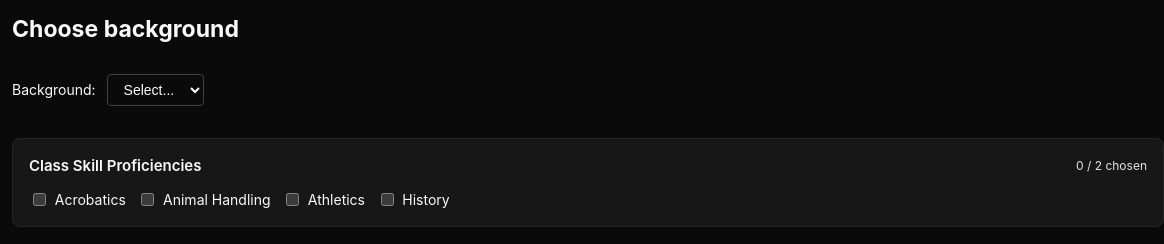
Test case: BackgroundStep › deselects a skill when clicked again
Click the checkbox labelled "Acrobatics": (40, 199) [33,193,46,206]
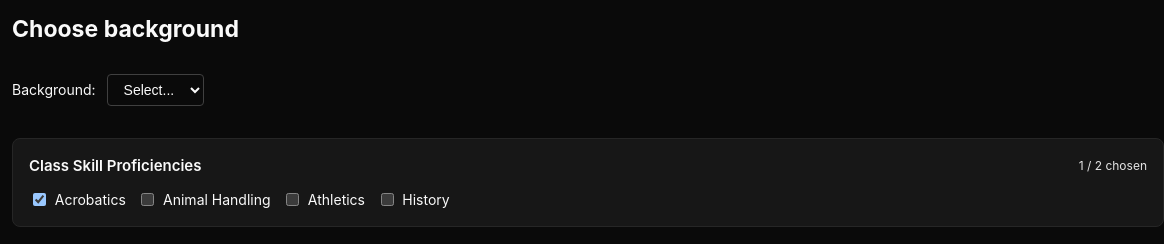
Click the checkbox labelled "Acrobatics": (40, 199) [33,193,46,206]
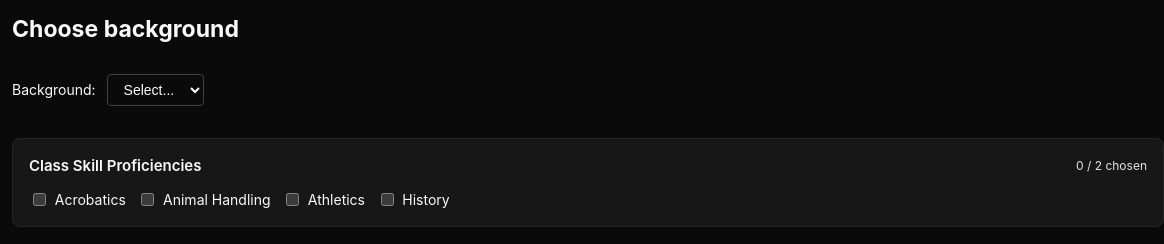
Expected: the text "0 / 2 chosen" is shown, [1076,157,1147,175]
